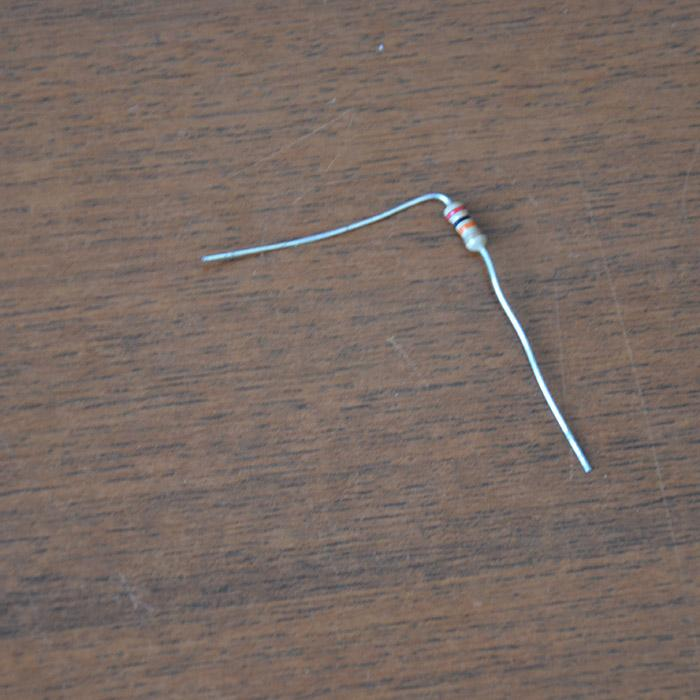resistor: (445, 199, 487, 252)
